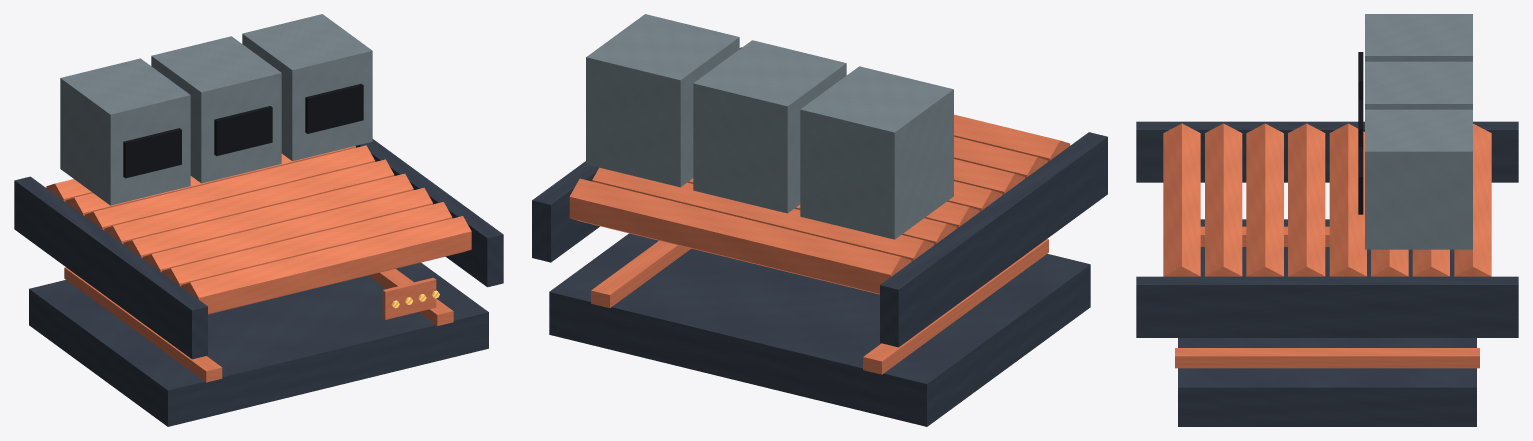
The model's file is atlas100-s023-a02.glb.
3 views of the same model, side by side, from view 1: azimuth 30°, elevation 25°; view 2: azimuth 150°, elevation 25°; view 3: azimuth 270°, elevation 25° (orthographic). The views are drawn at different scales.
Visible parts, largest first — view 1: atlas100-s023-a02:part-000, atlas100-s023-a02:part-013, atlas100-s023-a02:part-011, atlas100-s023-a02:part-015, atlas100-s023-a02:part-017, atlas100-s023-a02:part-010, atlas100-s023-a02:part-009, atlas100-s023-a02:part-006, atlas100-s023-a02:part-008, atlas100-s023-a02:part-005, atlas100-s023-a02:part-007, atlas100-s023-a02:part-012 (+8 smaller); view 2: atlas100-s023-a02:part-000, atlas100-s023-a02:part-013, atlas100-s023-a02:part-017, atlas100-s023-a02:part-015, atlas100-s023-a02:part-011, atlas100-s023-a02:part-003, atlas100-s023-a02:part-004, atlas100-s023-a02:part-012, atlas100-s023-a02:part-001, atlas100-s023-a02:part-002, atlas100-s023-a02:part-010, atlas100-s023-a02:part-009 (+4 smaller); view 3: atlas100-s023-a02:part-012, atlas100-s023-a02:part-000, atlas100-s023-a02:part-017, atlas100-s023-a02:part-002, atlas100-s023-a02:part-011, atlas100-s023-a02:part-007, atlas100-s023-a02:part-008, atlas100-s023-a02:part-009, atlas100-s023-a02:part-010, atlas100-s023-a02:part-015, atlas100-s023-a02:part-013, atlas100-s023-a02:part-006 (+5 smaller).
Boxes of the visible parts, x1,y1,x2,y2 form: atlas100-s023-a02:part-000: (29,262,488,426); atlas100-s023-a02:part-013: (60,58,190,205); atlas100-s023-a02:part-011: (14,176,207,359); atlas100-s023-a02:part-015: (151,36,281,183); atlas100-s023-a02:part-017: (242,14,372,161); atlas100-s023-a02:part-010: (181,216,471,314); atlas100-s023-a02:part-009: (162,202,452,286); atlas100-s023-a02:part-006: (104,159,394,244); atlas100-s023-a02:part-008: (142,187,432,272); atlas100-s023-a02:part-005: (85,145,375,229); atlas100-s023-a02:part-007: (123,173,413,258); atlas100-s023-a02:part-012: (355,139,503,287); atlas100-s023-a02:part-000: (549,233,1090,426); atlas100-s023-a02:part-013: (800,66,953,239); atlas100-s023-a02:part-017: (586,14,739,187); atlas100-s023-a02:part-015: (693,40,846,213); atlas100-s023-a02:part-011: (880,132,1107,347); atlas100-s023-a02:part-003: (569,178,911,294); atlas100-s023-a02:part-004: (592,167,933,261); atlas100-s023-a02:part-012: (532,47,741,262); atlas100-s023-a02:part-001: (863,239,1048,374); atlas100-s023-a02:part-002: (591,240,690,308); atlas100-s023-a02:part-010: (954,114,1070,161); atlas100-s023-a02:part-009: (954,136,1047,178); atlas100-s023-a02:part-012: (1136,276,1518,337); atlas100-s023-a02:part-000: (1178,219,1476,426); atlas100-s023-a02:part-017: (1365,109,1472,249); atlas100-s023-a02:part-002: (1175,348,1479,368); atlas100-s023-a02:part-011: (1136,121,1518,182); atlas100-s023-a02:part-007: (1288,123,1325,276); atlas100-s023-a02:part-008: (1246,123,1283,276); atlas100-s023-a02:part-009: (1205,123,1242,276); atlas100-s023-a02:part-010: (1163,123,1200,276); atlas100-s023-a02:part-015: (1365,61,1472,109); atlas100-s023-a02:part-013: (1365,14,1472,61); atlas100-s023-a02:part-006: (1329,123,1366,276).
Size of the model in its own units: 2.4 by 1.73 by 2.3.
5 materials, 5 textured.
